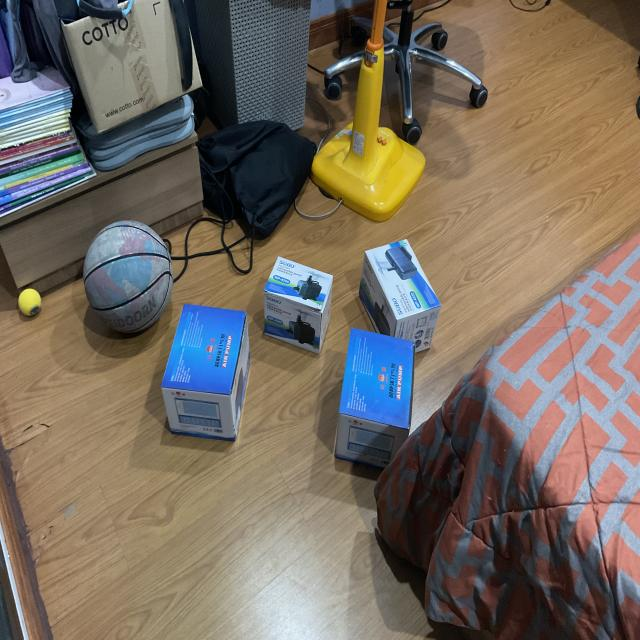SOBO_WP_4200: (351, 231, 457, 363), (260, 241, 340, 358)
YAMANO_LPP_20: (333, 318, 434, 516), (156, 297, 256, 453)
